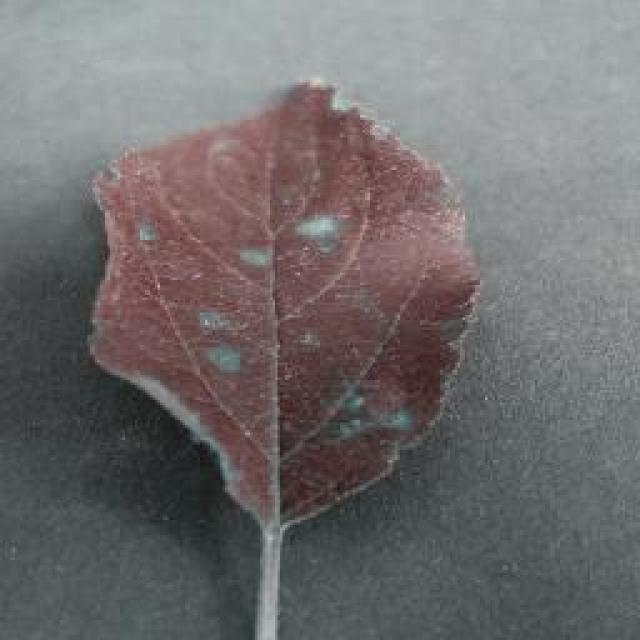apple cedar apple rust: (85, 75, 483, 533)
